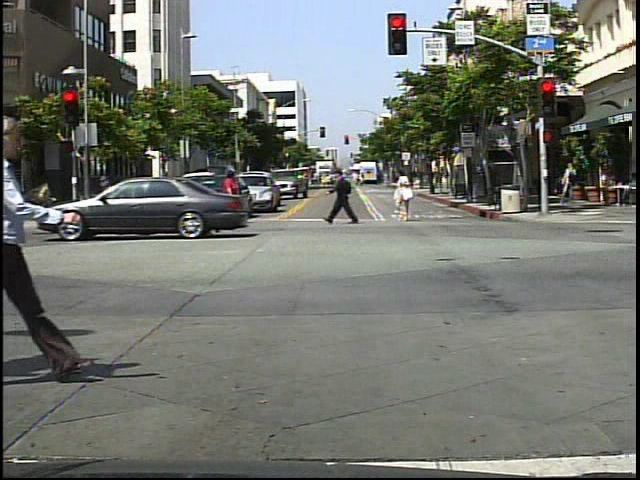person: (333, 161, 363, 230), (388, 163, 419, 227), (214, 167, 246, 227), (560, 159, 579, 202)
